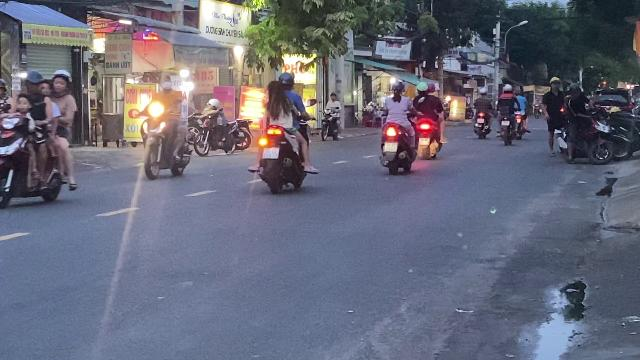helmet: (21, 70, 45, 94), (49, 69, 71, 95), (276, 71, 294, 89), (388, 79, 404, 97), (158, 74, 174, 90)
licenseplate: (262, 148, 278, 158), (384, 142, 398, 152)
motorcyclist: (0, 68, 80, 210), (252, 70, 314, 194), (138, 73, 194, 179), (376, 78, 418, 174)
nohelmet: (264, 80, 286, 108), (13, 94, 31, 114)
